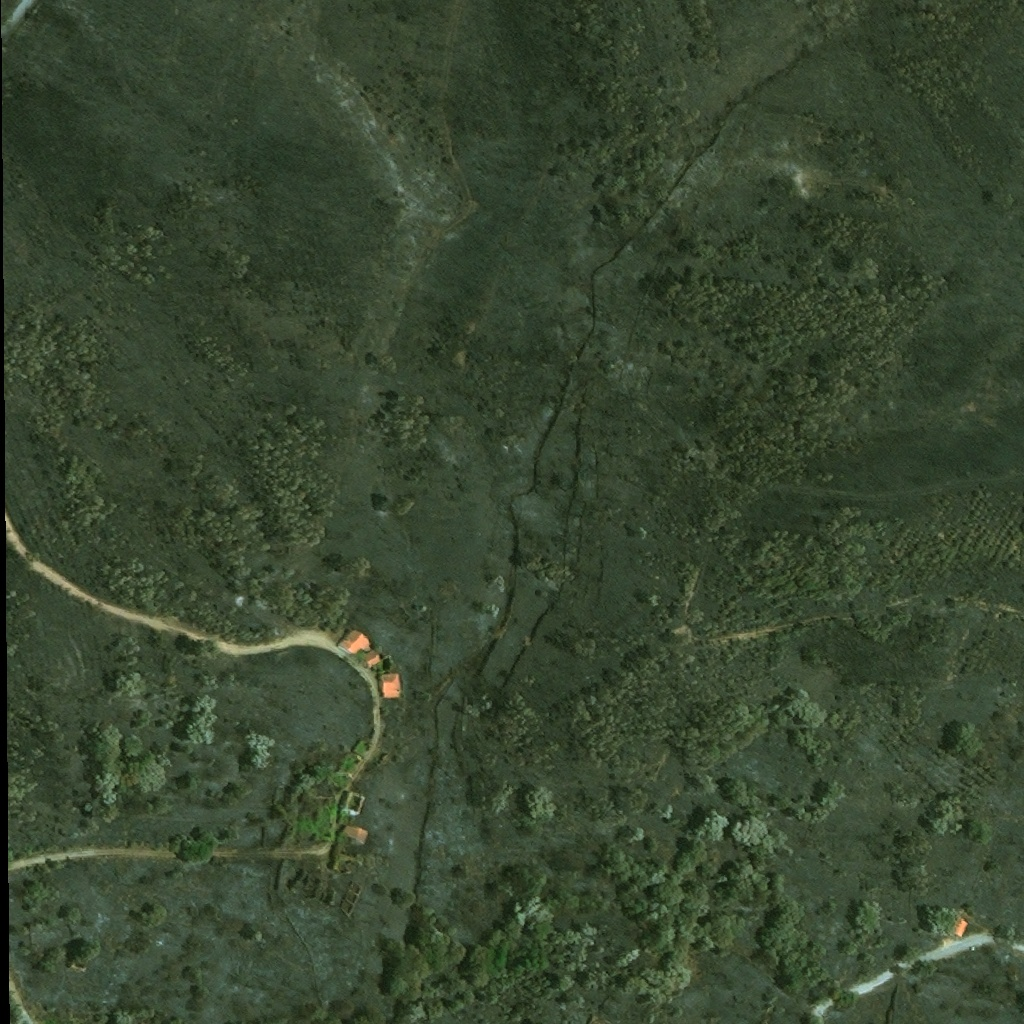0 no-damage: (336, 624, 373, 658), (342, 820, 372, 845), (380, 672, 404, 699), (949, 915, 971, 940), (365, 649, 382, 669)
